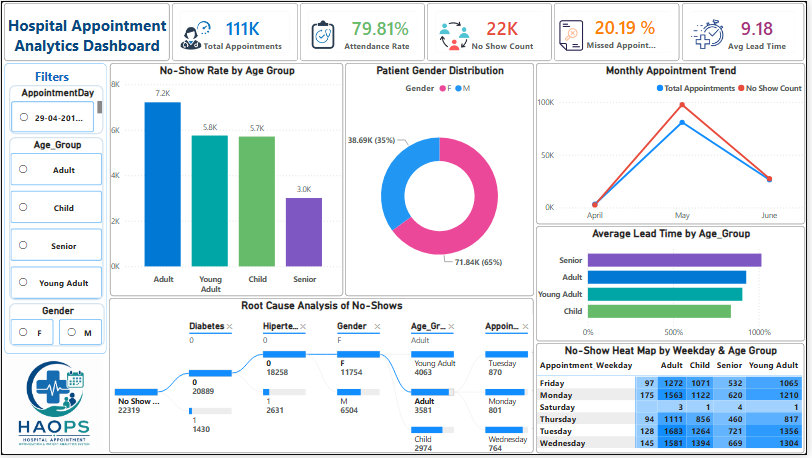

What the dashboard file says about the page in this screenshot:
{"tool":"powerbi","page":{"name":"Page 1","canvas":[1280,720],"ordinal":0},"visuals":[{"type":"cardVisual","fields":{"Data":["Fact_MedicalAppointments.Total Appointments"]},"box":[271.4,3.2,200,92.1],"z":0},{"type":"textbox","box":[4.8,3.2,263.5,92.1],"z":1000},{"type":"cardVisual","fields":{"Data":["Fact_MedicalAppointments.Attendance Rate"]},"box":[475.4,3.7,198.5,92.3],"z":2000},{"type":"cardVisual","fields":{"Data":["Fact_MedicalAppointments.No Show Rate"]},"box":[877.6,3.9,198.7,92.1],"z":3000},{"type":"cardVisual","fields":{"Data":["Fact_MedicalAppointments.Average Lead Time"]},"box":[1081,3.2,193.7,92.1],"z":4000},{"type":"cardVisual","fields":{"Data":["Fact_MedicalAppointments.No Show Count"]},"box":[676.9,3.7,198,92.3],"z":5000},{"type":"clusteredColumnChart","title":"No-Show Rate by Age Group","fields":{"Category":["Fact_MedicalAppointments.Age_Group"],"Y":["Fact_MedicalAppointments.No Show Count"]},"box":[173,98.4,369.8,369.8],"z":6000},{"type":"pivotTable","title":"No-Show Heat Map by Weekday & Age Group","fields":{"Rows":["Fact_MedicalAppointments.Appointment_Weekday"],"Columns":["Fact_MedicalAppointments.Age_Group"],"Values":["Fact_MedicalAppointments.No Show Count"]},"box":[849.2,542.2,426.2,175.4],"z":7000},{"type":"clusteredBarChart","fields":{"Category":["Fact_MedicalAppointments.Age_Group"],"Y":["Fact_MedicalAppointments.Average Lead Time"]},"box":[849.2,357.1,427,182.5],"z":8000},{"type":"lineChart","title":"Monthly Appointment Trend","fields":{"Category":["Fact_MedicalAppointments.AppointmentDay.Variation.Date Hierarchy.Month"],"Y":["Fact_MedicalAppointments.Total Appointments"],"Y2":["Fact_MedicalAppointments.No Show Count"]},"box":[849.2,98.4,427,255.6],"z":9000},{"type":"image","box":[447.8,16.4,126.7,74.9],"z":10000},{"type":"image","box":[272.2,7.7,74.9,93.6],"z":11000},{"type":"image","box":[692.6,26.5,54.7,57.6],"z":12000},{"type":"image","box":[878.4,22.1,54.7,64.8],"z":13000},{"type":"image","box":[1081.4,20.4,79.4,63.8],"z":14000},{"type":"decompositionTreeVisual","title":"Root Cause Analysis of No-Shows","fields":{"Analyze":["Fact_MedicalAppointments.No Show Count"],"ExplainBy":["Fact_MedicalAppointments.Diabetes","Fact_MedicalAppointments.Hipertension","Fact_MedicalAppointments.Gender","Fact_MedicalAppointments.Age_Group","Fact_MedicalAppointments.Appointment_Weekday","Fact_MedicalAppointments.SMS_received","Fact_MedicalAppointments.Scholarship","Fact_MedicalAppointments.Neighbourhood"]},"box":[172.1,471.2,673.8,245.9],"z":15000},{"type":"shape","box":[4.8,98.4,163.5,461.9],"z":16000},{"type":"advancedSlicerVisual","fields":{"Values":["Fact_MedicalAppointments.Age_Group"]},"box":[12.8,216,150.2,259.4],"z":17000},{"type":"advancedSlicerVisual","fields":{"Values":["Fact_MedicalAppointments.AppointmentDay"]},"box":[12.8,133.8,150.2,78],"z":18000},{"type":"advancedSlicerVisual","fields":{"Values":["Fact_MedicalAppointments.Gender"]},"box":[12.8,479.6,151.7,69.4],"z":19000},{"type":"textbox","box":[24.6,101.6,113.1,42.6],"z":20000},{"type":"donutChart","title":"Patient Gender Distribution","fields":{"Category":["Fact_MedicalAppointments.Gender"],"Y":["CountNonNull(Fact_MedicalAppointments.AppointmentID)"]},"box":[546,98.4,300,369.8],"z":21000},{"type":"image","box":[0,562.3,168.9,155.7],"z":22000}]}

Visuals, with their boxes in screenshot pixels (x1, y1, x2, y2), scaled from the page's 1280x720 canvas onto the 812x458 screenshot:
cardVisual - Fact_MedicalAppointments.Total Appointments: (172,2,299,61)
textbox: (3,2,170,61)
cardVisual - Fact_MedicalAppointments.Attendance Rate: (302,2,428,61)
cardVisual - Fact_MedicalAppointments.No Show Rate: (557,2,683,61)
cardVisual - Fact_MedicalAppointments.Average Lead Time: (686,2,809,61)
cardVisual - Fact_MedicalAppointments.No Show Count: (429,2,555,61)
"No-Show Rate by Age Group" clusteredColumnChart: (110,63,344,298)
"No-Show Heat Map by Weekday & Age Group" pivotTable: (539,345,809,456)
clusteredBarChart - Fact_MedicalAppointments.Age_Group x Fact_MedicalAppointments.Average Lead Time: (539,227,810,343)
"Monthly Appointment Trend" lineChart: (539,63,810,225)
image: (284,10,364,58)
image: (173,5,220,64)
image: (439,17,474,53)
image: (557,14,592,55)
image: (686,13,736,54)
"Root Cause Analysis of No-Shows" decompositionTreeVisual: (109,300,537,456)
shape: (3,63,107,356)
advancedSlicerVisual - Fact_MedicalAppointments.Age_Group: (8,137,103,302)
advancedSlicerVisual - Fact_MedicalAppointments.AppointmentDay: (8,85,103,135)
advancedSlicerVisual - Fact_MedicalAppointments.Gender: (8,305,104,349)
textbox: (16,65,87,92)
"Patient Gender Distribution" donutChart: (346,63,537,298)
image: (0,358,107,457)
